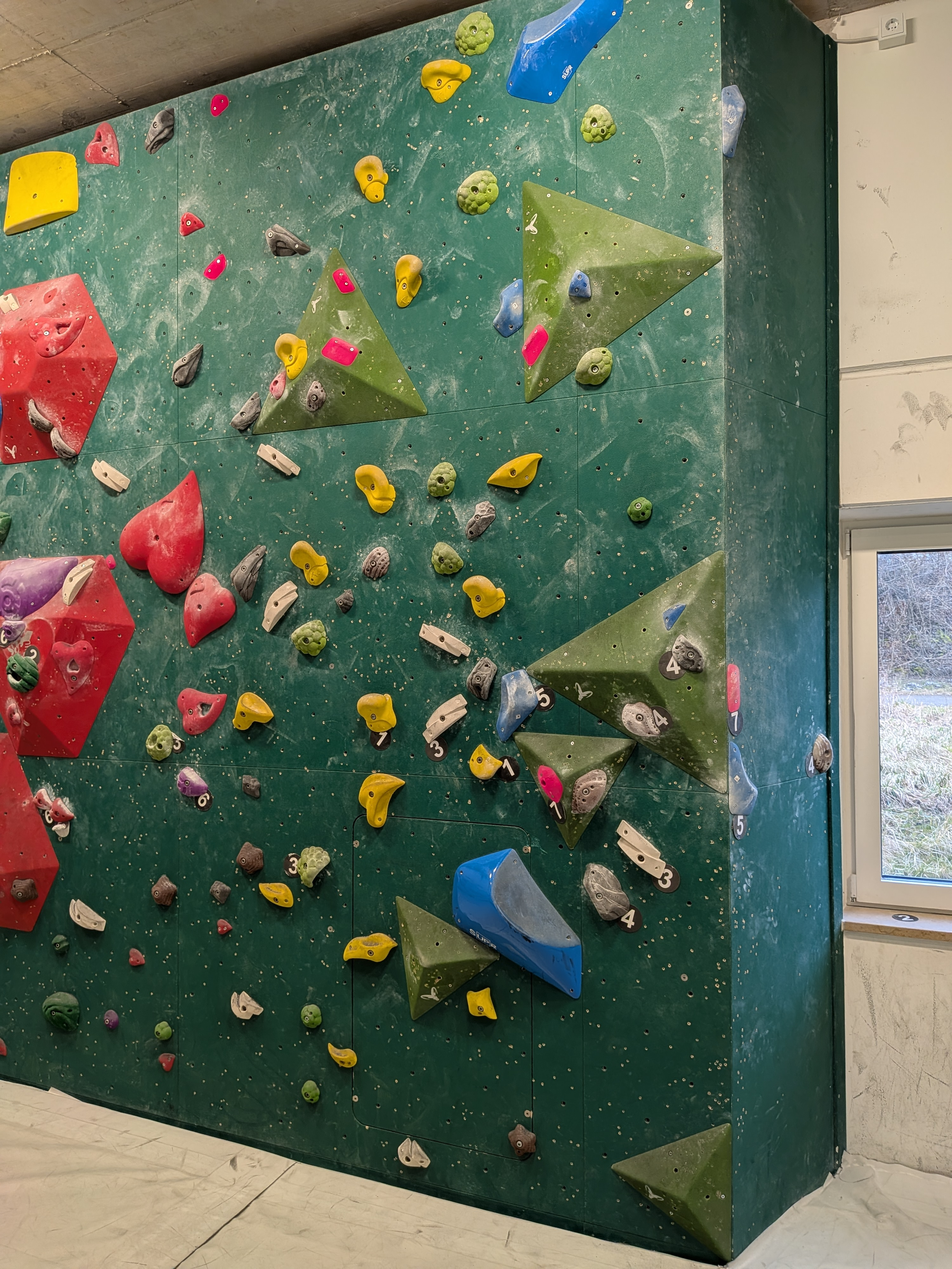hold: (455, 850, 583, 997), (507, 0, 623, 105), (119, 472, 204, 595), (4, 151, 78, 235), (0, 556, 78, 618), (184, 573, 237, 644), (496, 669, 538, 741), (617, 820, 665, 878), (583, 863, 630, 921), (28, 314, 85, 357), (51, 640, 95, 694), (360, 774, 402, 828), (178, 689, 226, 734), (421, 59, 471, 102), (729, 741, 757, 817), (423, 694, 466, 743), (488, 453, 542, 490), (230, 545, 265, 600), (457, 170, 499, 215), (355, 466, 394, 514), (722, 86, 747, 158), (420, 622, 471, 657), (464, 575, 506, 617), (456, 10, 495, 55), (262, 584, 296, 633), (495, 280, 524, 336), (274, 333, 308, 380), (291, 541, 327, 585), (357, 693, 396, 732), (233, 692, 273, 730), (576, 347, 613, 387), (60, 560, 92, 606), (85, 123, 120, 164), (571, 771, 605, 813), (265, 224, 309, 256), (622, 702, 660, 739), (297, 846, 330, 888), (468, 656, 497, 702), (258, 444, 299, 476), (343, 935, 393, 961), (583, 105, 617, 143), (355, 158, 385, 201), (7, 653, 39, 693), (396, 255, 420, 306), (672, 634, 704, 672), (231, 392, 261, 432), (43, 994, 78, 1028), (291, 621, 325, 656), (174, 344, 203, 385), (146, 109, 175, 150), (469, 744, 502, 779), (92, 460, 129, 491), (430, 543, 463, 576), (466, 503, 494, 540), (71, 901, 105, 931), (146, 724, 174, 760), (537, 765, 563, 803), (322, 338, 358, 365), (177, 767, 208, 798), (521, 325, 545, 365), (467, 987, 497, 1019), (428, 462, 455, 497), (510, 1125, 537, 1160), (398, 1137, 428, 1168), (27, 399, 54, 433), (50, 427, 77, 459), (235, 844, 261, 877), (363, 547, 389, 580), (259, 883, 294, 907), (812, 733, 833, 772), (727, 663, 741, 716), (232, 992, 260, 1018), (151, 876, 175, 905), (328, 1043, 357, 1067), (49, 797, 74, 823), (332, 268, 355, 295), (306, 381, 326, 412), (630, 499, 654, 524), (571, 272, 592, 300), (204, 254, 226, 280), (10, 879, 36, 901), (180, 212, 203, 235), (3, 620, 26, 643), (665, 603, 685, 629), (269, 369, 286, 399), (34, 787, 53, 812), (301, 1005, 319, 1030), (242, 776, 262, 796), (209, 882, 227, 903), (209, 94, 226, 116), (0, 294, 19, 313), (7, 703, 22, 727), (336, 589, 352, 611), (302, 1082, 318, 1102), (158, 1055, 173, 1070), (156, 1023, 170, 1039), (51, 937, 65, 953), (104, 1011, 117, 1028), (129, 950, 142, 965), (104, 554, 116, 570), (216, 922, 228, 934), (0, 514, 6, 534), (0, 1051, 4, 1054)
volume: (524, 547, 726, 795), (524, 181, 723, 404), (250, 246, 429, 435), (0, 556, 136, 760), (0, 274, 118, 465), (615, 1123, 734, 1262), (510, 729, 636, 853), (396, 896, 502, 1021), (0, 732, 60, 931)
